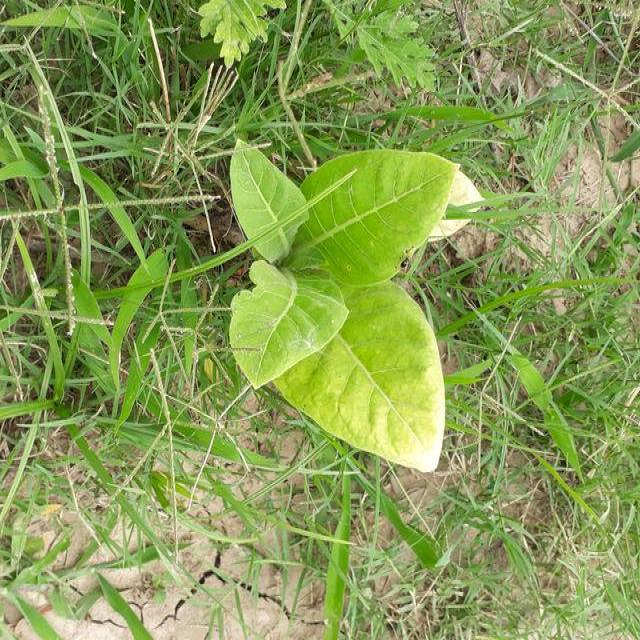crop: (223, 132, 477, 477)
